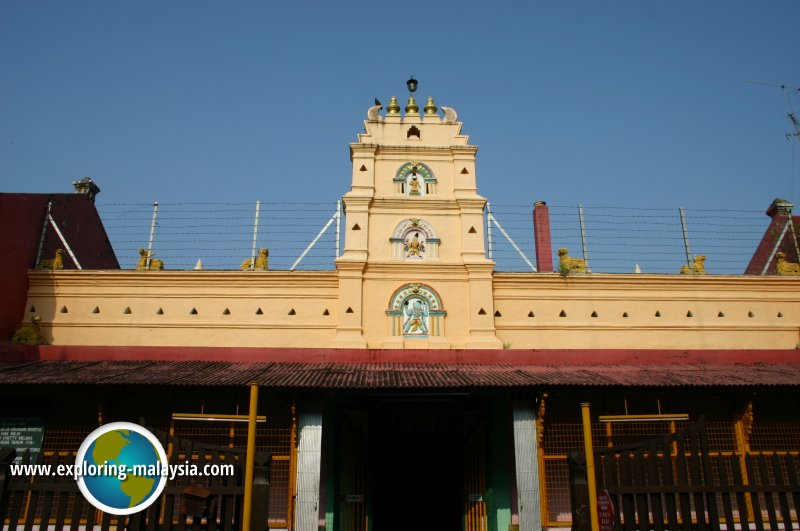Hindu Temple: (351, 102, 493, 343)
